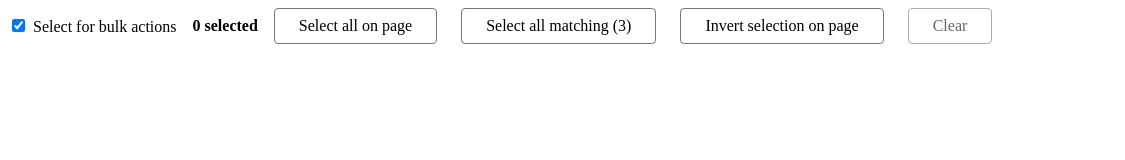
Test: shared bulk actions › SelectionBar selects all matching keys, or says when too many match
Click the button "Select all matching (3)" at coordinates (559, 26), box [461,8,656,44]
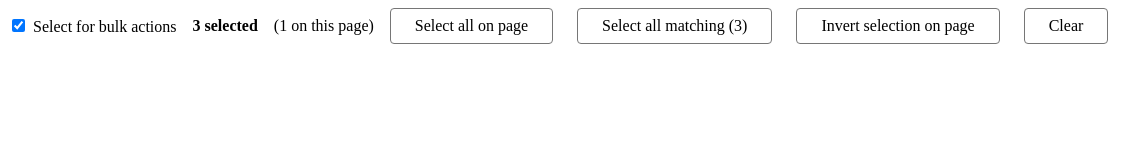
Expected: the text "3 selected (1 on this page)" is shown, [12,8,1108,44]
Click the button "Select all matching (3)" at coordinates (675, 26), box [577,8,772,44]
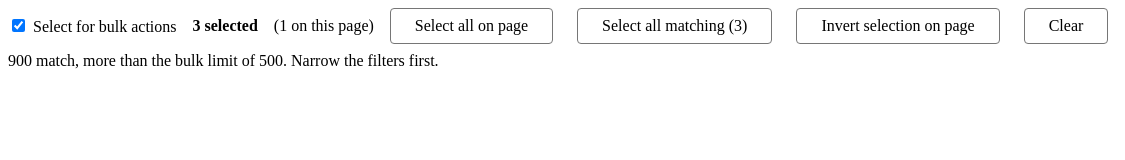
Expected: the message "900 match, more than the bulk limit of 500. Narrow the filters first." is shown, [8,52,439,69]
